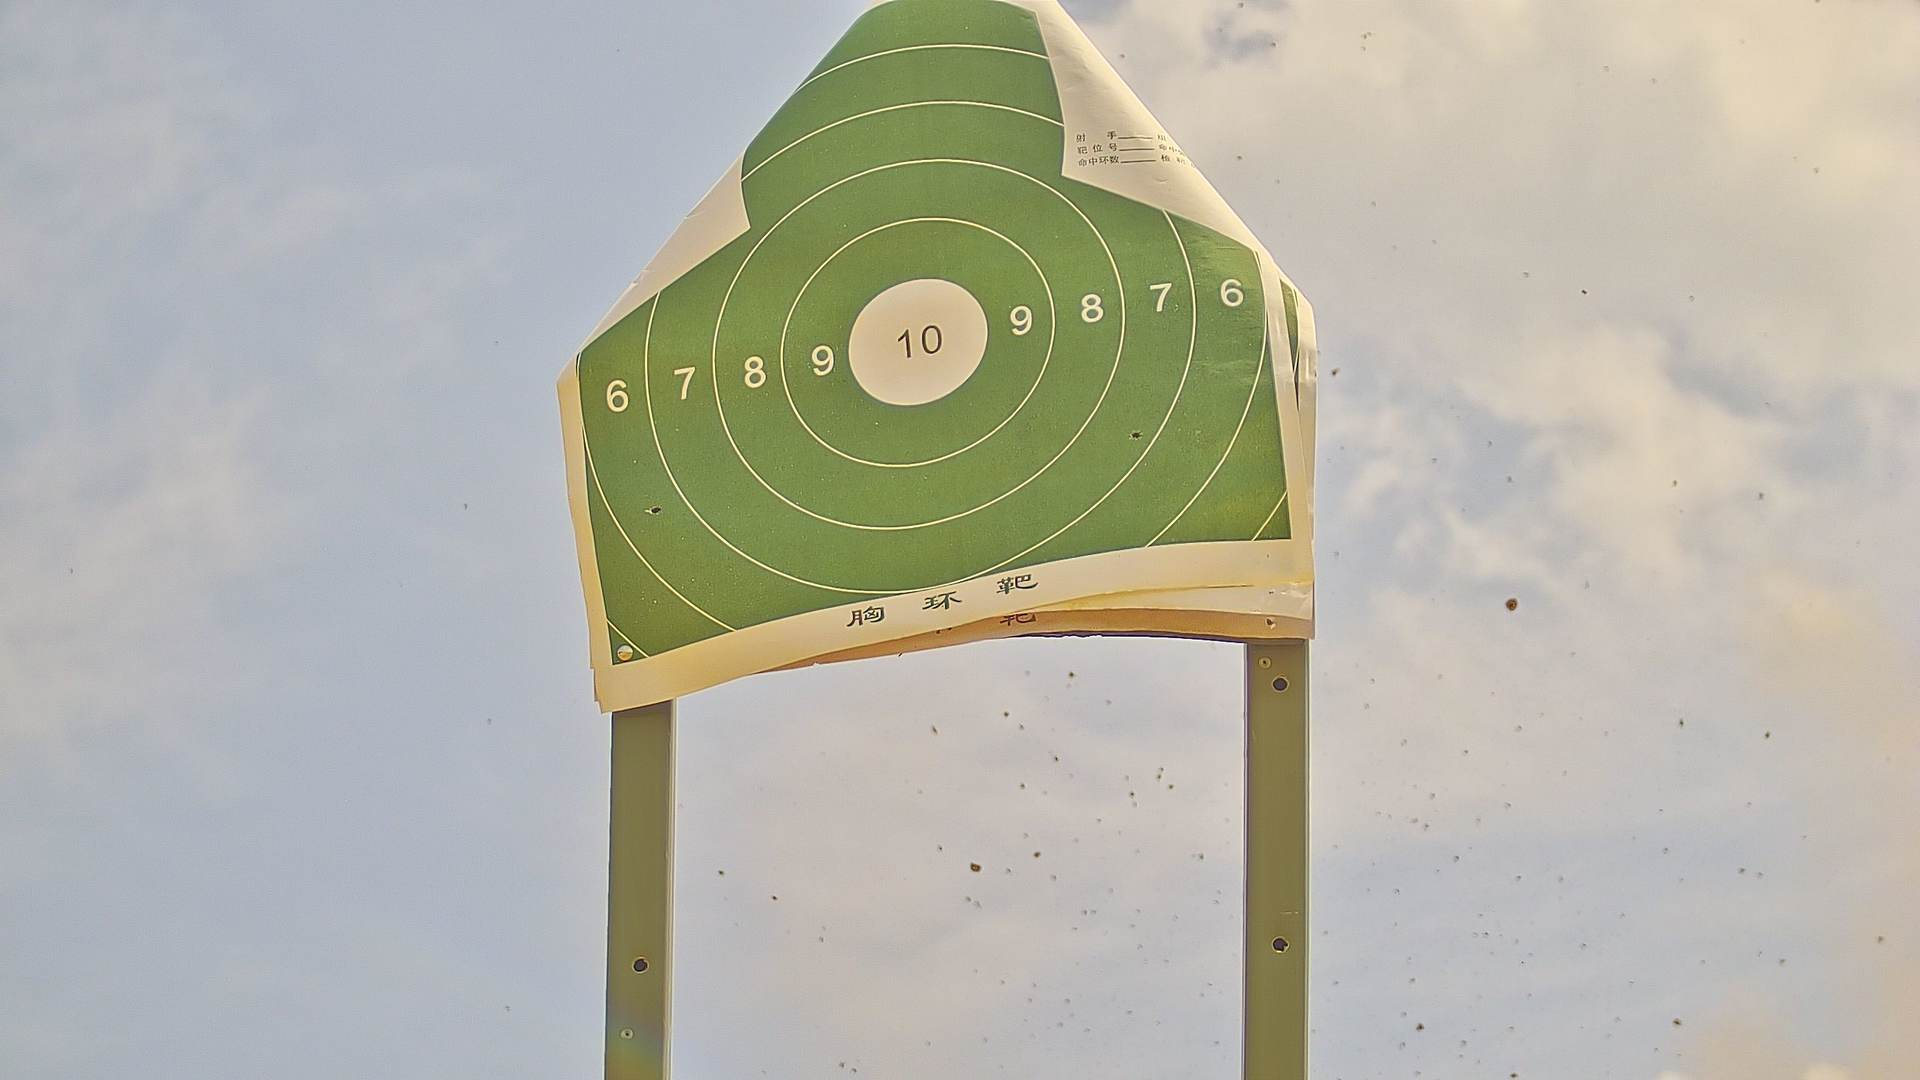hole: (645, 502, 662, 517), (1130, 425, 1141, 440)
target: (574, 1, 1298, 667)
ten: (843, 276, 993, 409)
